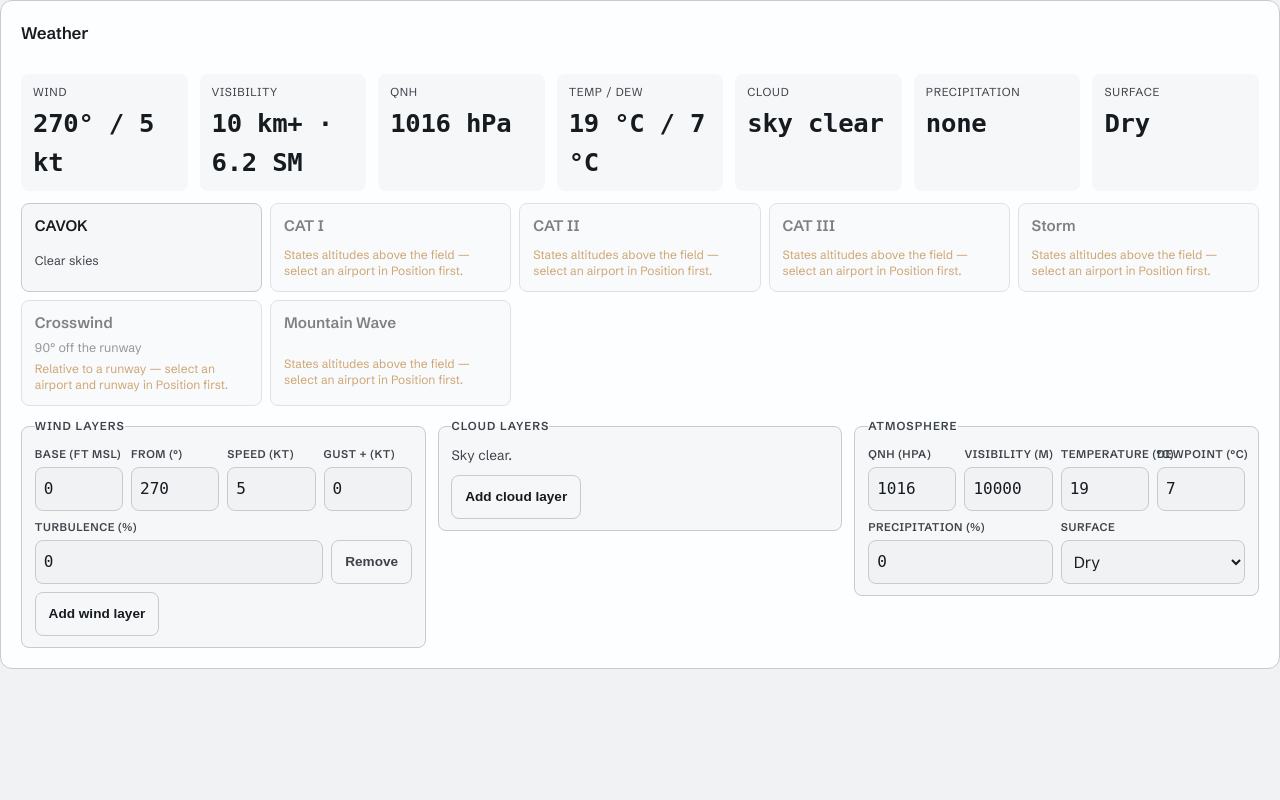
WeatherPanel › renders an apply failure inline instead of in a modal
Click the button "CAVOK Clear skies" at (142, 247), box [21,203,262,292]
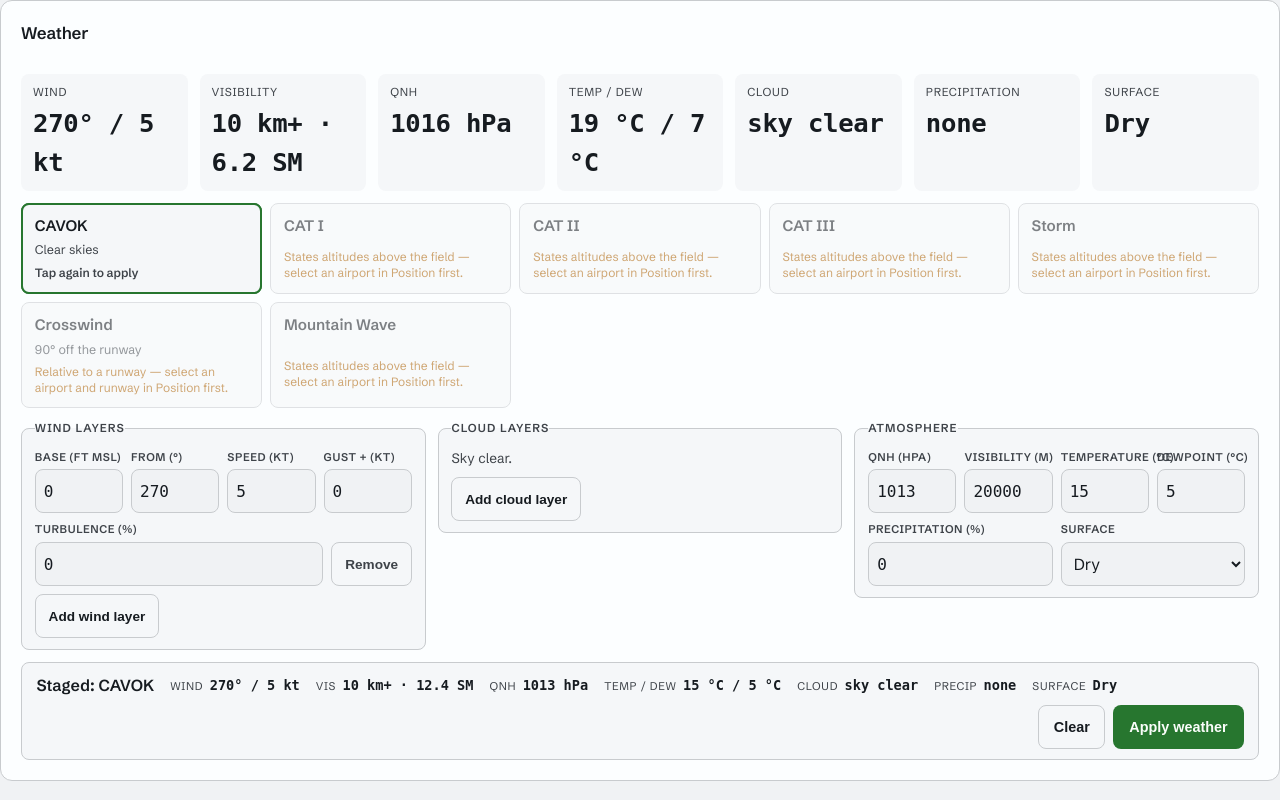
Result: the text "Staged: CAVOK" is shown at [36,673,154,697]
Click the button "Apply weather" at (1178, 727), box [1113,705,1244,749]
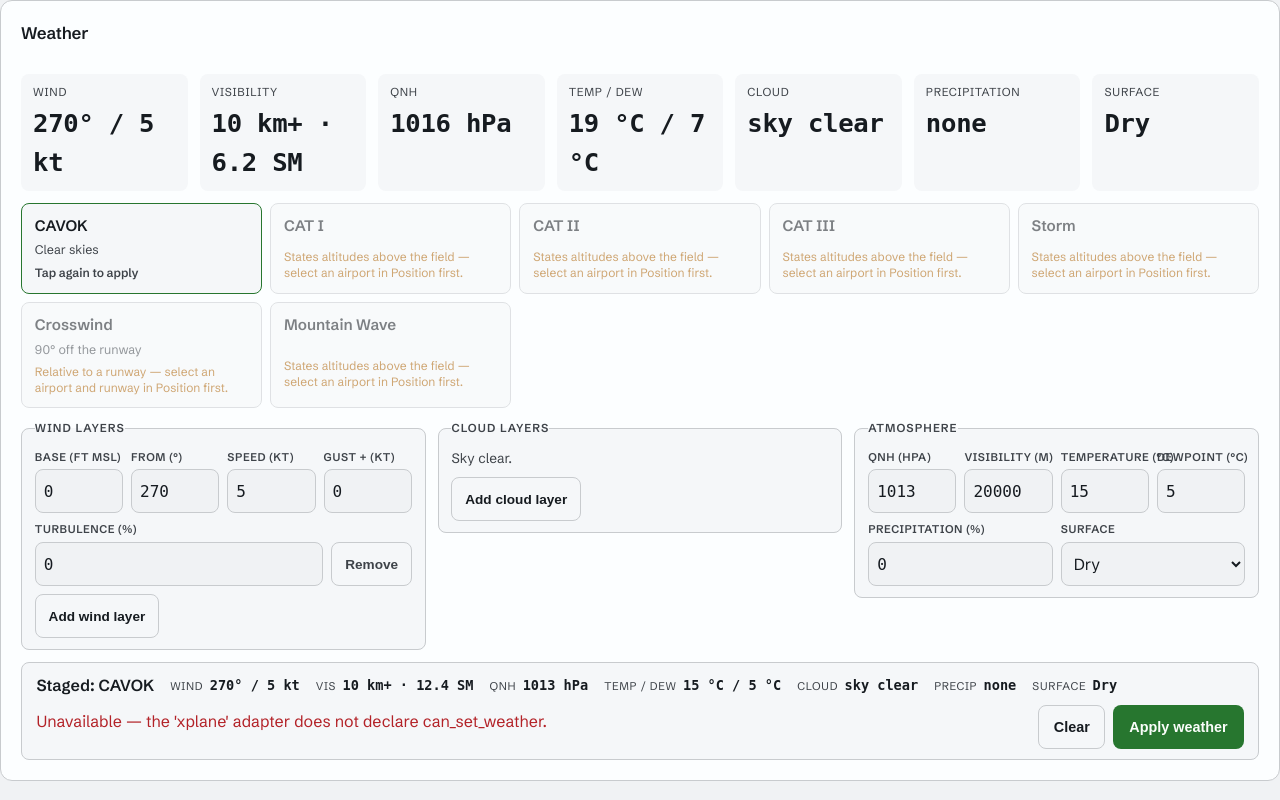
Result: the text "Staged: CAVOK" is shown at [36,673,154,697]
Result: the text "does not declare can_set_weather" is shown at [36,711,547,731]
